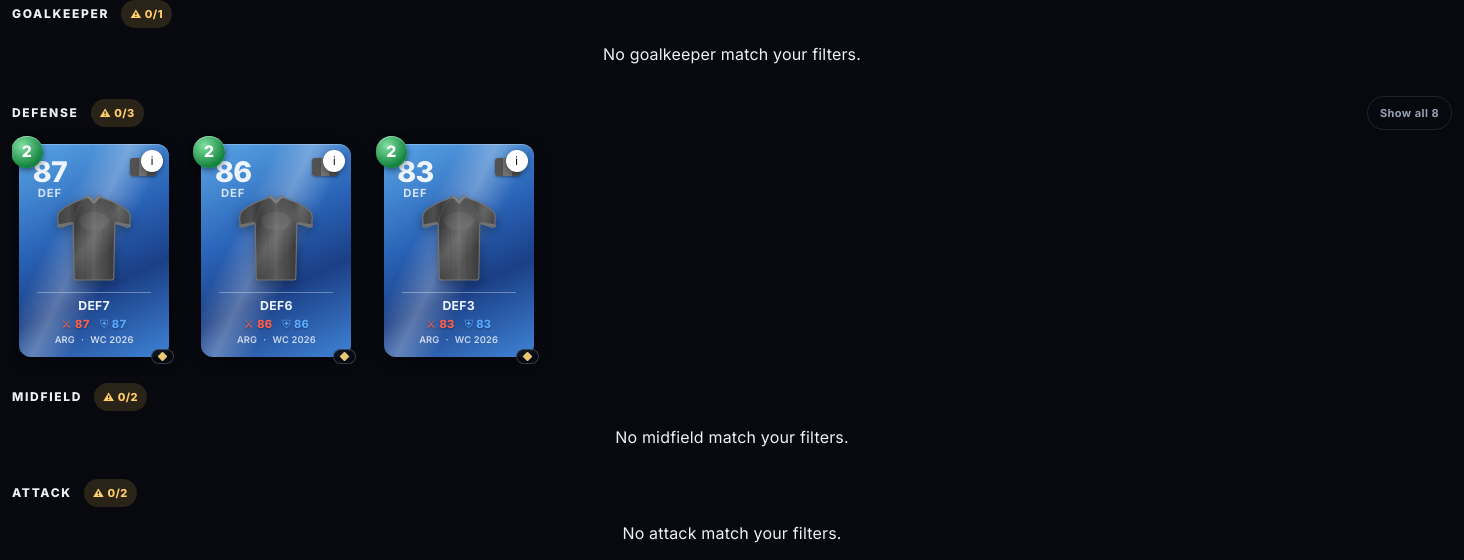
AssistedPool › limits the curated list and expands with "show all"
This screenshot has width=1464, height=560.
Expected: the text "def7" is shown, [78,298,110,313]
Expected: the text "def0" is not shown
Click the button "Show all 8" at (1409, 113), box [1367,96,1452,130]
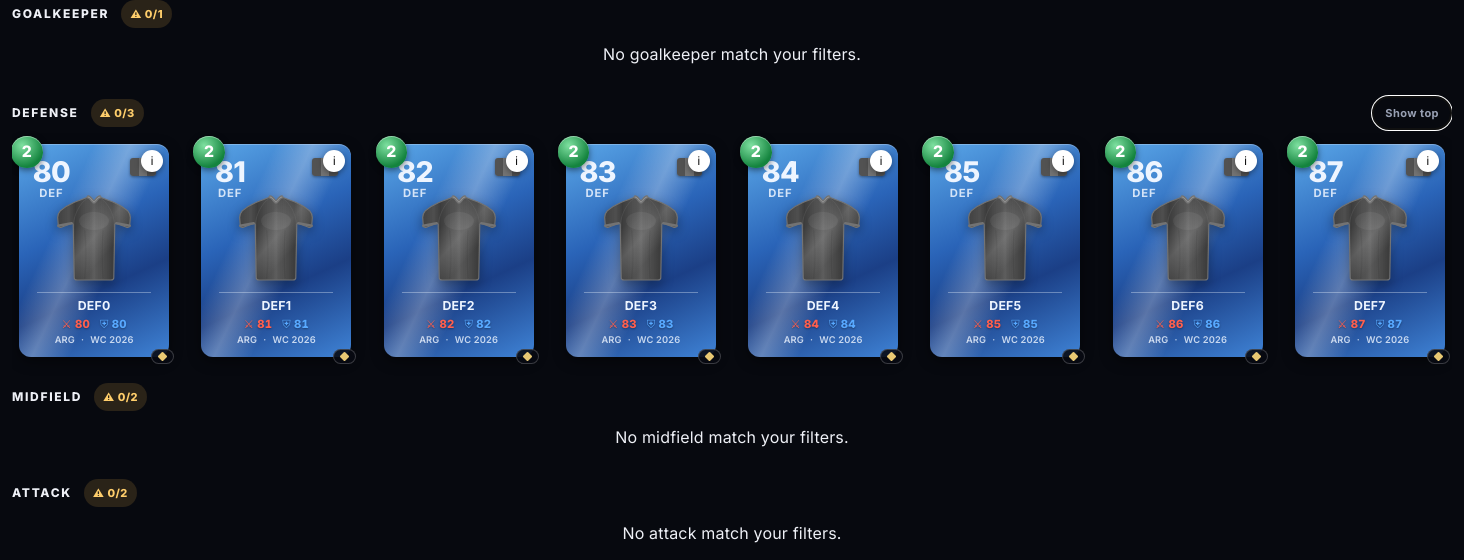
Now the text "def0" is shown, box [78,298,110,313]
